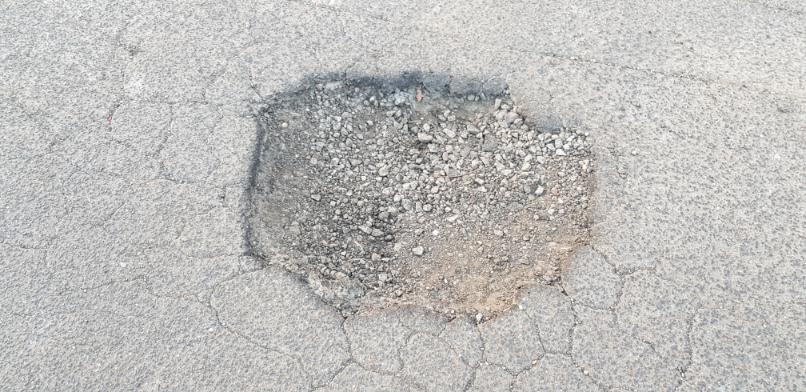pothole: (233, 59, 603, 332)
